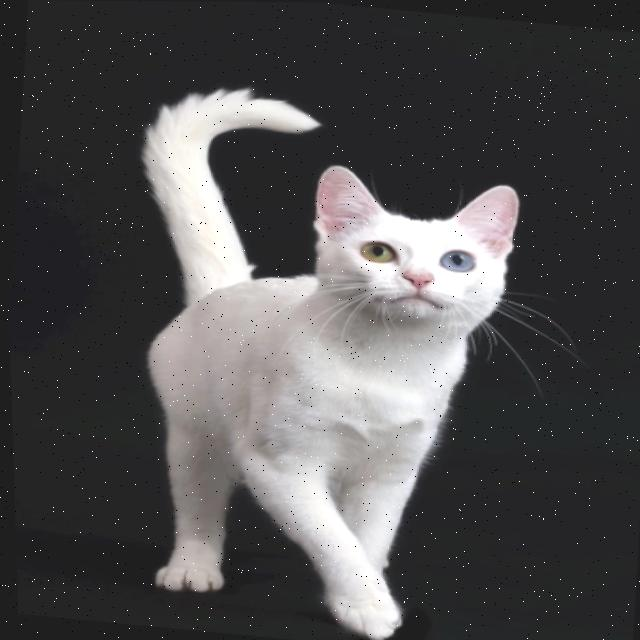Khao Manee: (88, 72, 546, 640)
